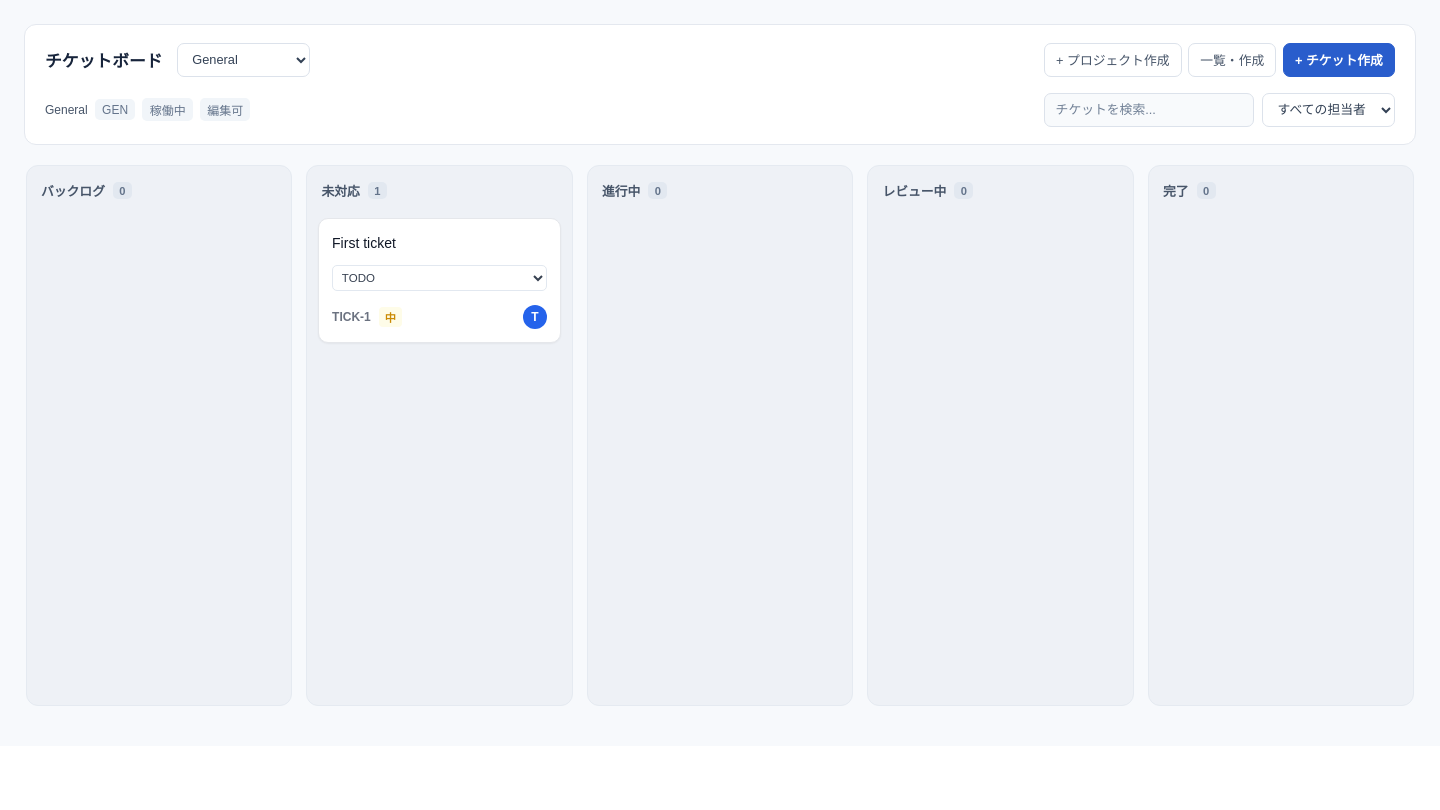
deletes a ticket from detail after confirmation and removes it from the board
Select "General" in the dropdown named "プロジェクト": (243, 60) [177,43,310,77]
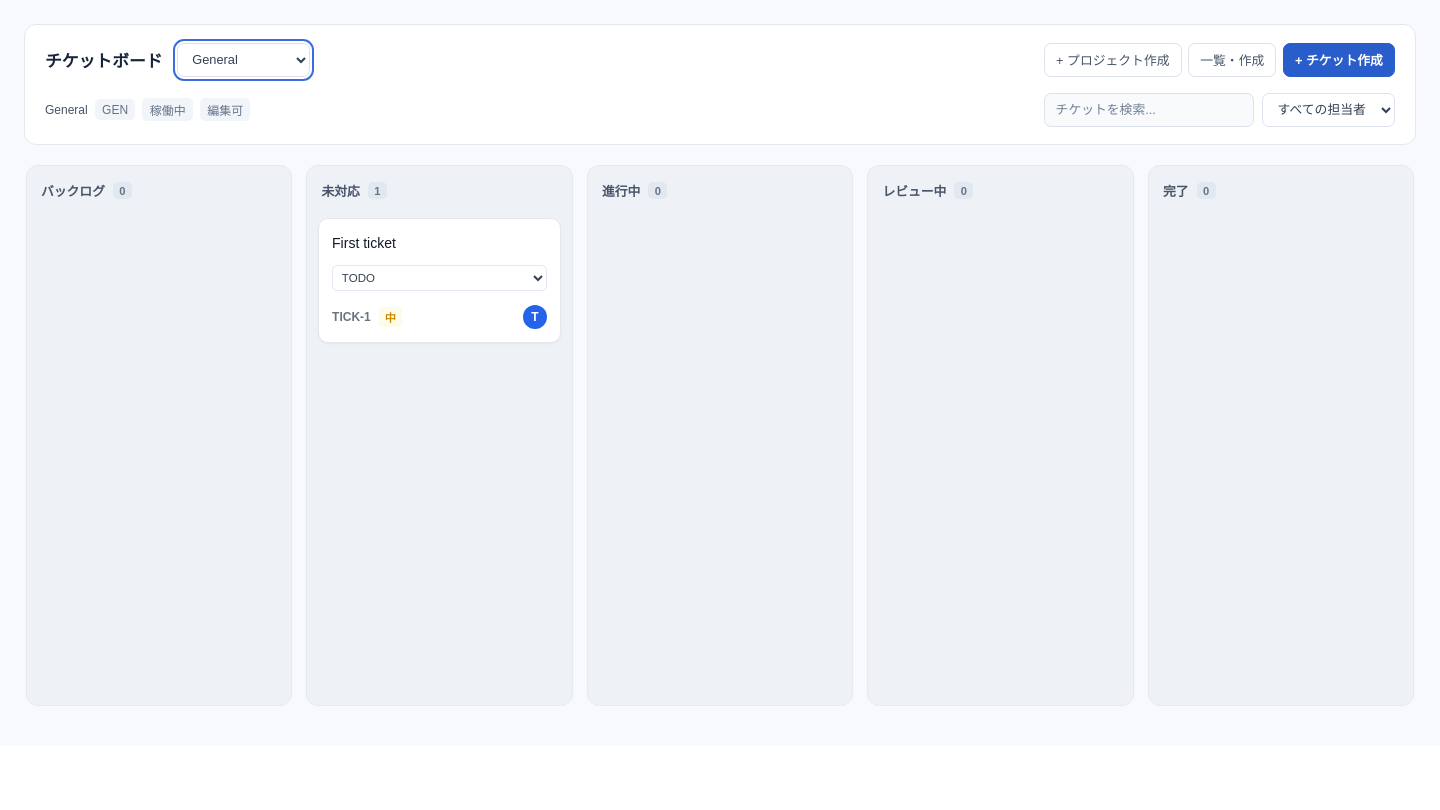
Click the button with aria-label "TICK-1 の詳細を開く": (364, 243) [332,232,396,255]
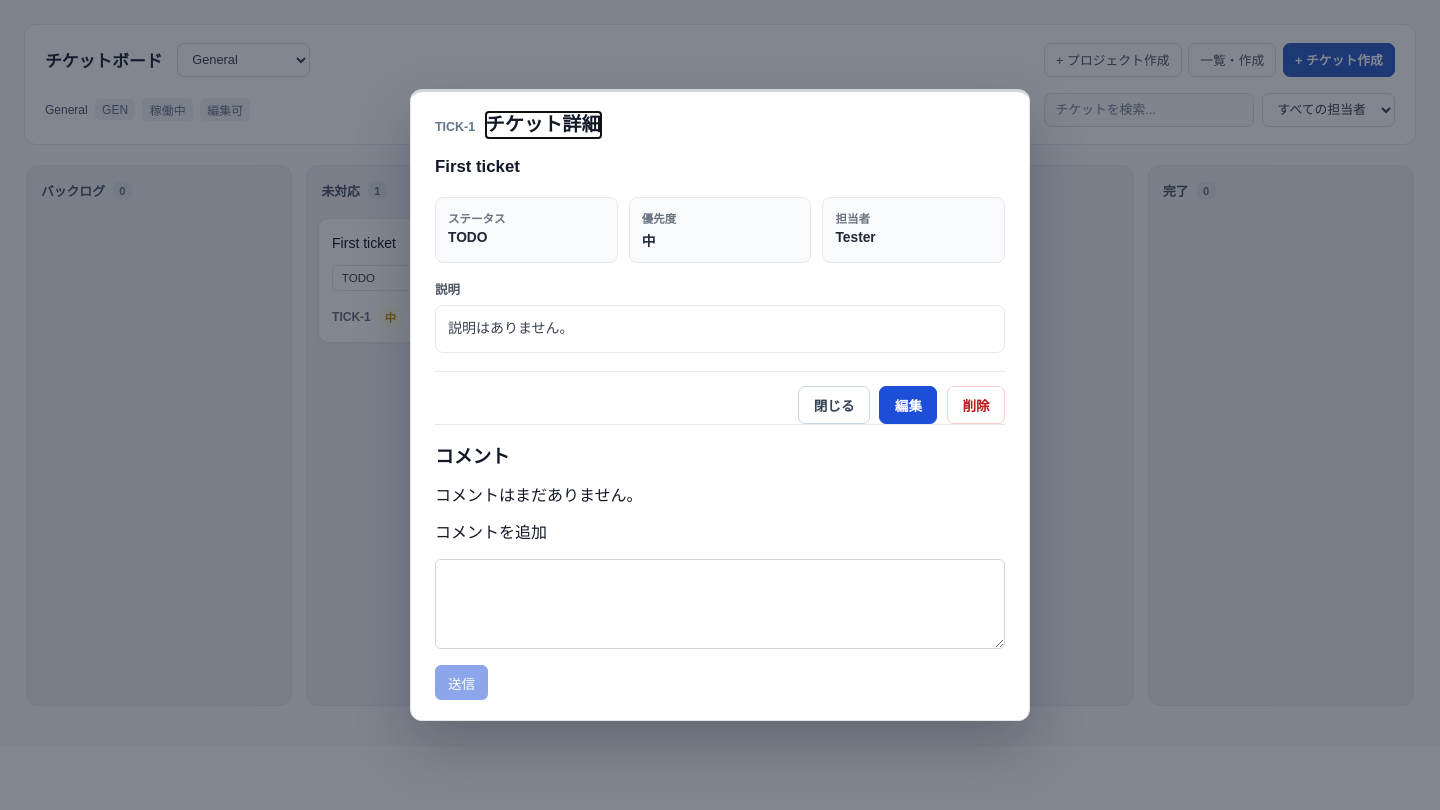
Click the button "削除": (976, 405) [947,386,1005,424]
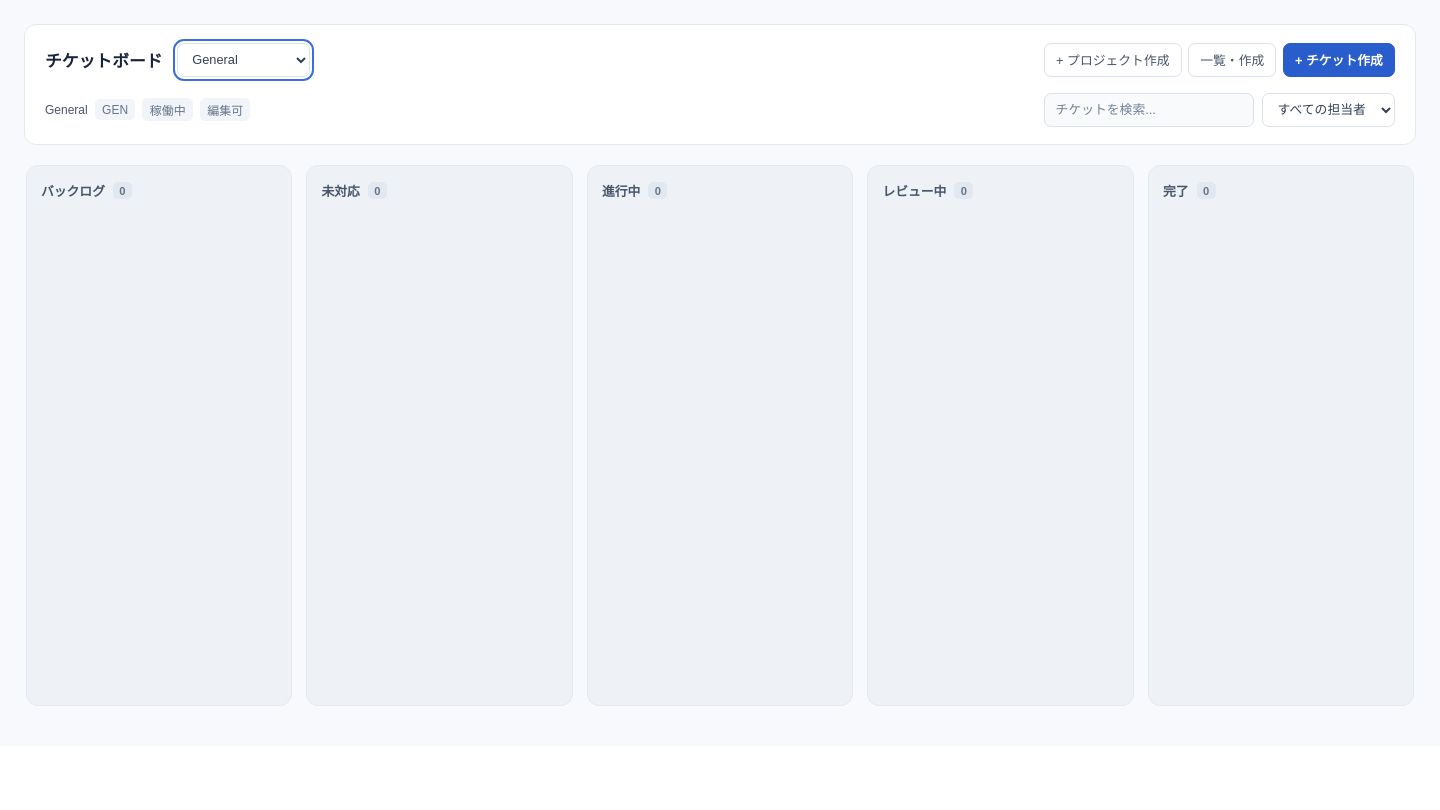
Check: the dialog is gone
